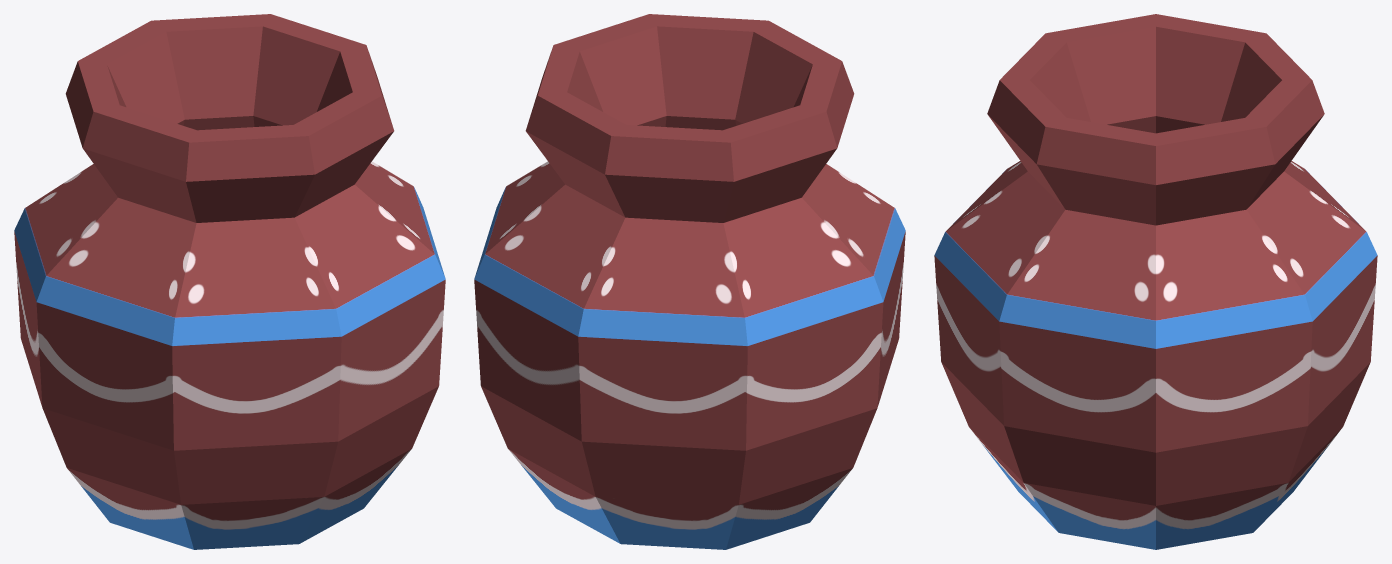
File: Pot.fbx
3 renders of one model, left to right at view 1: azimuth 30°, elevation 25°; view 2: azimuth 150°, elevation 25°; view 3: azimuth 270°, elevation 25°, orthographic.
Parts seen in each view (by area): view 1: Cylinder; view 2: Cylinder; view 3: Cylinder.
Boxes of the visible parts, x1,y1,x2,y2 form: Cylinder: [14, 14, 445, 549]; Cylinder: [474, 14, 905, 549]; Cylinder: [934, 14, 1377, 549].
Bounding box in the file's own units: 155 × 158 × 155.
